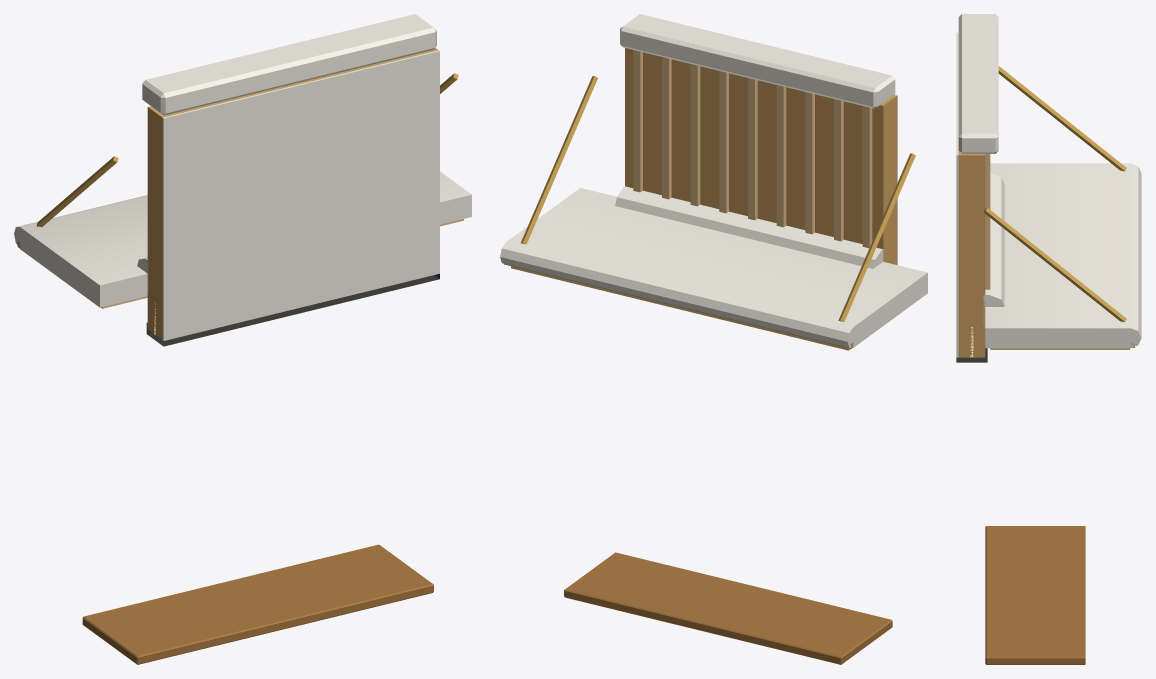
Rendered from hall_door_wall.glb.
3 renders of one model, left to right at view 1: azimuth 30°, elevation 25°; view 2: azimuth 150°, elevation 25°; view 3: azimuth 270°, elevation 25°, orthographic. The views are drawn at different scales.
Visible parts, largest first — view 1: wall; view 2: wall; view 3: wall.
Part boxes in pixels (x1,y1,x2,y2): wall: [14, 14, 471, 664]; wall: [500, 14, 927, 664]; wall: [956, 14, 1141, 664].
Bounding box in the file's own units: 3.5 × 5.2 × 1.66.
